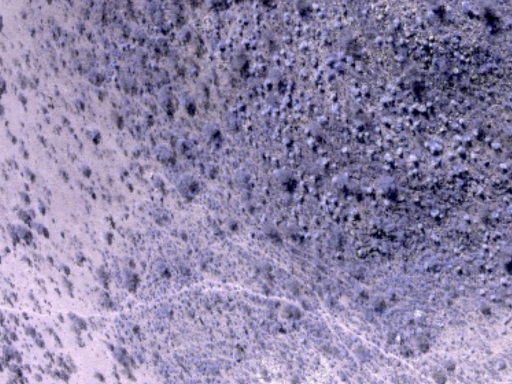agave: (423, 138, 444, 156), (459, 1, 475, 16), (389, 16, 404, 31), (353, 60, 366, 77), (454, 145, 469, 159), (280, 93, 294, 108), (296, 67, 311, 81), (424, 8, 437, 24), (380, 114, 393, 130), (312, 71, 326, 85), (372, 138, 386, 152), (280, 33, 295, 46), (315, 115, 330, 128), (451, 133, 464, 147), (303, 138, 317, 151), (419, 103, 432, 117), (490, 142, 505, 154), (379, 97, 396, 107), (269, 106, 282, 119), (398, 102, 411, 115), (491, 230, 504, 243), (416, 14, 426, 30), (471, 128, 484, 140), (448, 122, 461, 134), (323, 56, 336, 68), (332, 61, 344, 74), (374, 34, 386, 47), (383, 34, 396, 46), (407, 153, 420, 165), (482, 135, 496, 146), (276, 110, 287, 124), (351, 86, 362, 100), (280, 136, 294, 147), (292, 103, 304, 115), (409, 103, 421, 115), (432, 156, 444, 168), (463, 133, 474, 146), (189, 68, 202, 79), (332, 20, 345, 31), (345, 54, 356, 67), (428, 208, 441, 219), (361, 84, 371, 98), (261, 78, 273, 89), (498, 161, 509, 173), (396, 37, 407, 49), (396, 53, 407, 65), (328, 91, 339, 103), (386, 83, 397, 95), (352, 120, 364, 131), (364, 185, 376, 196), (395, 147, 405, 160), (216, 42, 227, 53), (248, 40, 259, 51), (237, 102, 248, 113), (350, 208, 361, 219), (271, 51, 281, 63), (297, 41, 309, 51), (336, 50, 346, 62), (461, 212, 473, 222), (240, 38, 251, 48), (394, 75, 404, 86), (262, 104, 272, 115), (302, 126, 312, 137), (384, 153, 394, 164), (381, 198, 392, 208), (319, 158, 330, 168), (383, 135, 394, 145), (316, 11, 326, 21), (273, 125, 283, 135), (272, 155, 282, 165), (457, 117, 466, 128), (292, 26, 303, 35), (299, 179, 308, 189), (489, 292, 498, 302), (491, 212, 501, 221), (331, 196, 340, 205), (485, 264, 494, 273), (241, 18, 251, 26), (319, 198, 329, 206), (417, 222, 425, 232), (426, 101, 434, 110), (262, 186, 272, 193), (326, 189, 333, 197)
